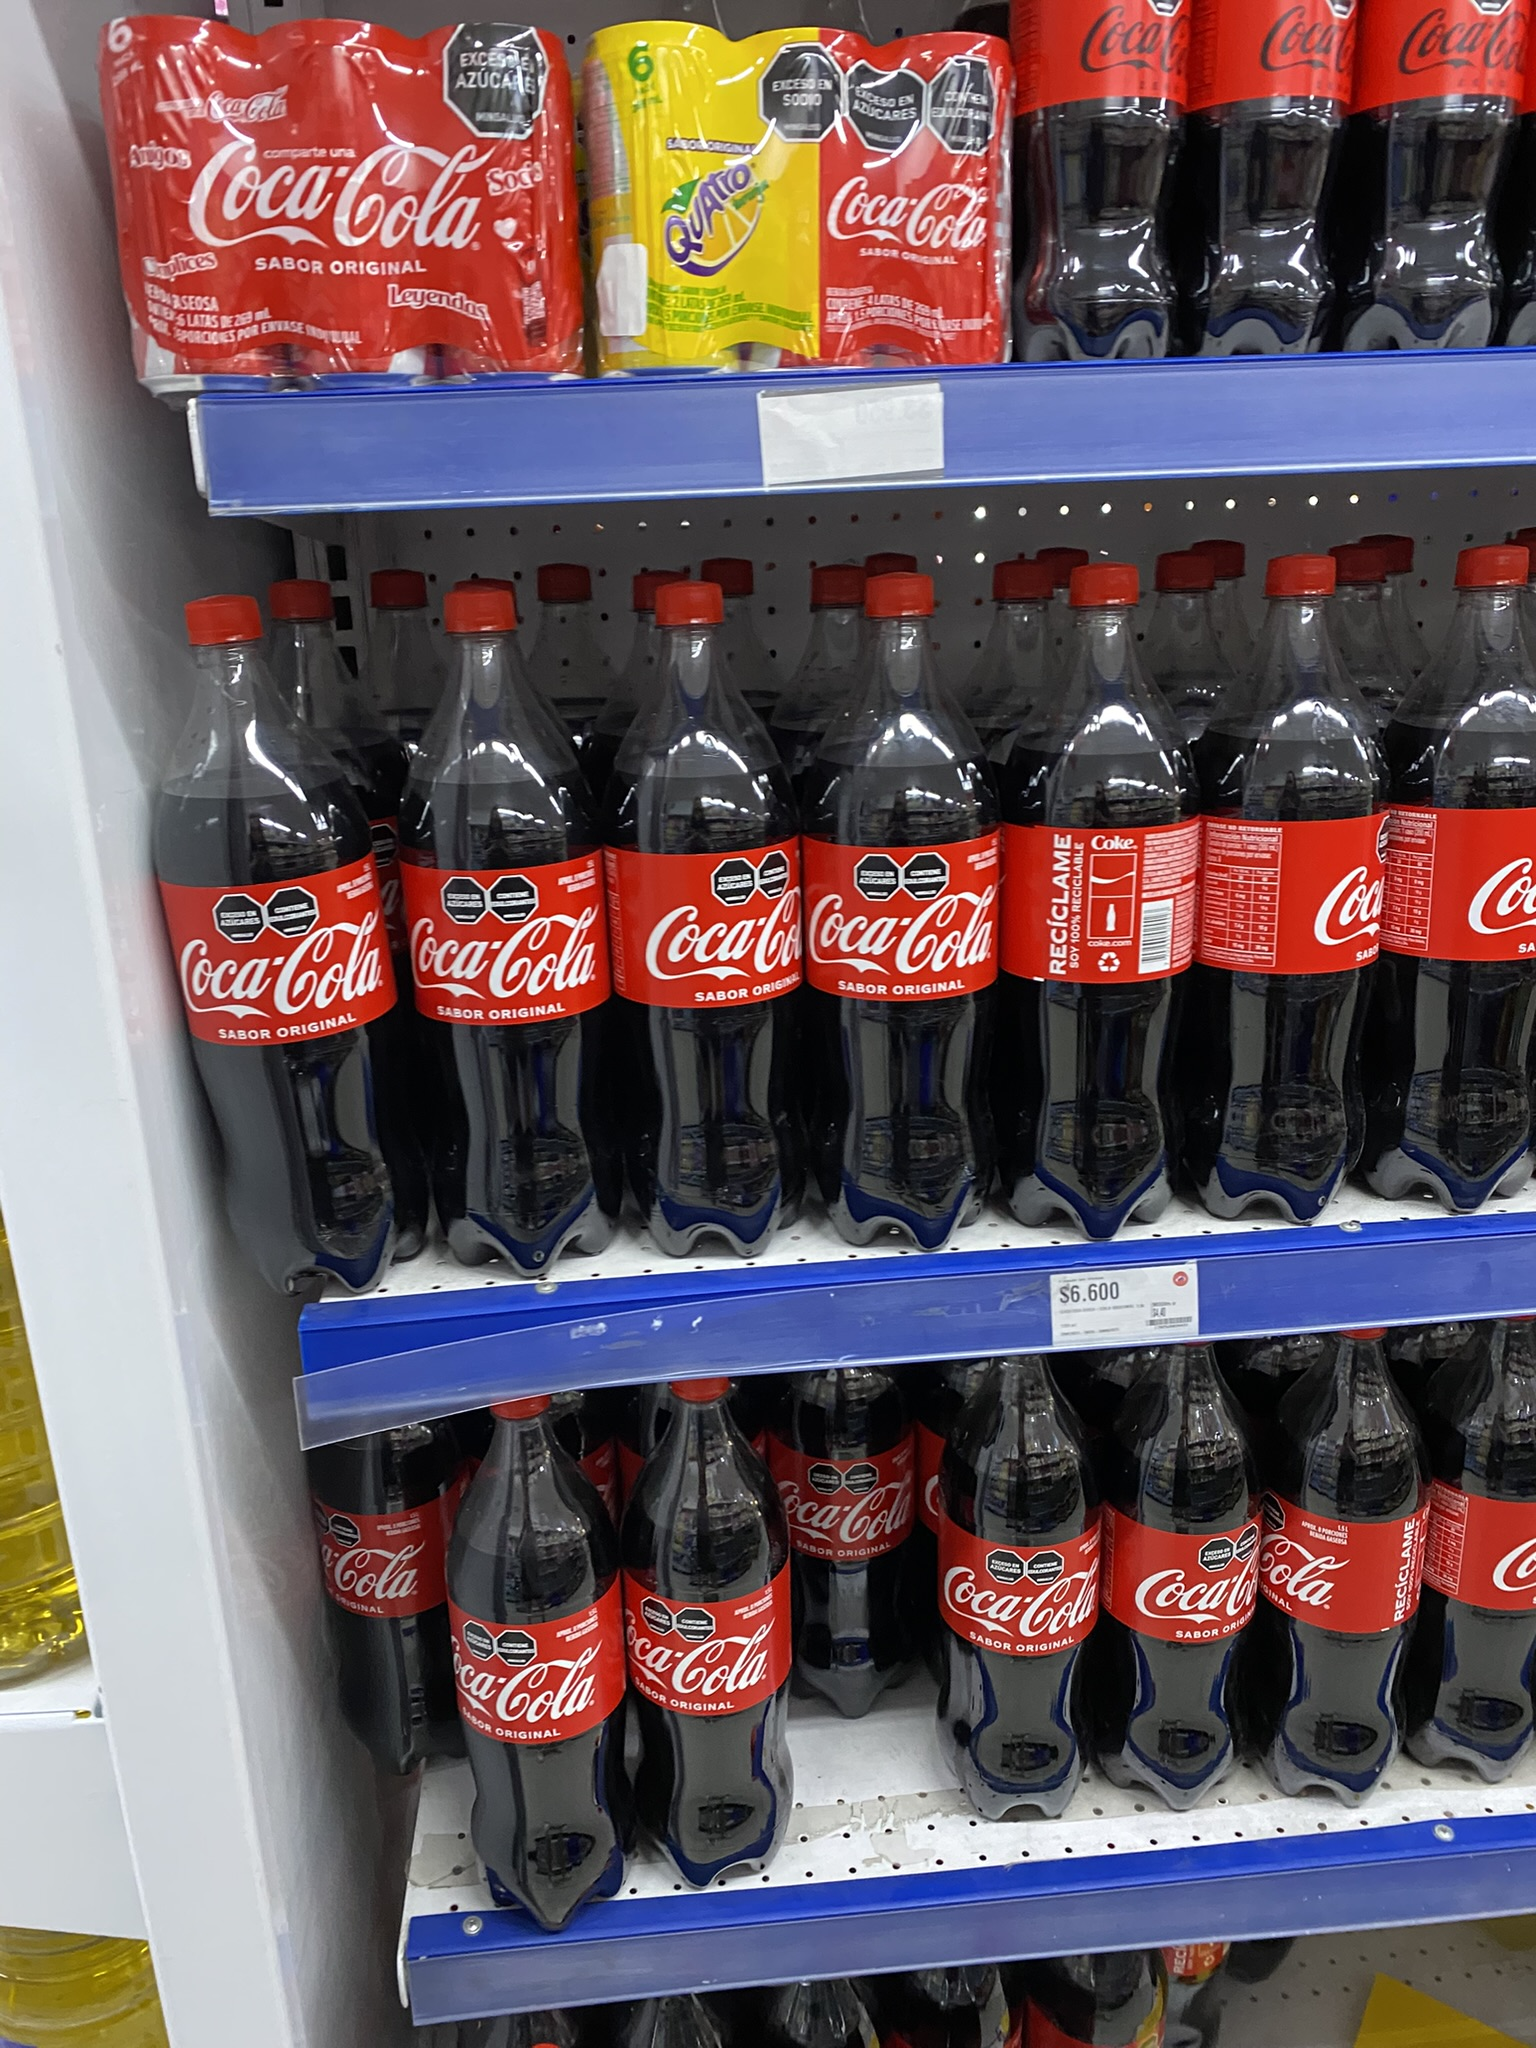Coca Cola: (100, 585, 413, 1298), (1012, 553, 1205, 1235), (413, 582, 599, 1280), (1205, 545, 1391, 1203), (618, 561, 795, 1248), (824, 564, 994, 1235), (440, 1397, 632, 1908), (626, 1388, 805, 1867), (1410, 545, 1536, 1224), (1262, 1280, 1420, 1817), (933, 1361, 1094, 1830), (1107, 1343, 1247, 1817), (1410, 1295, 1528, 1806), (758, 1377, 929, 1714), (294, 1426, 455, 1772)
